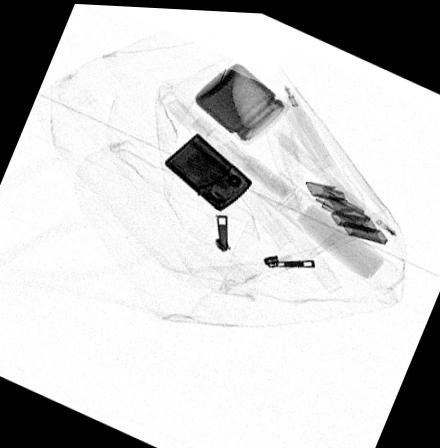Lighter: (163, 130, 252, 209)
